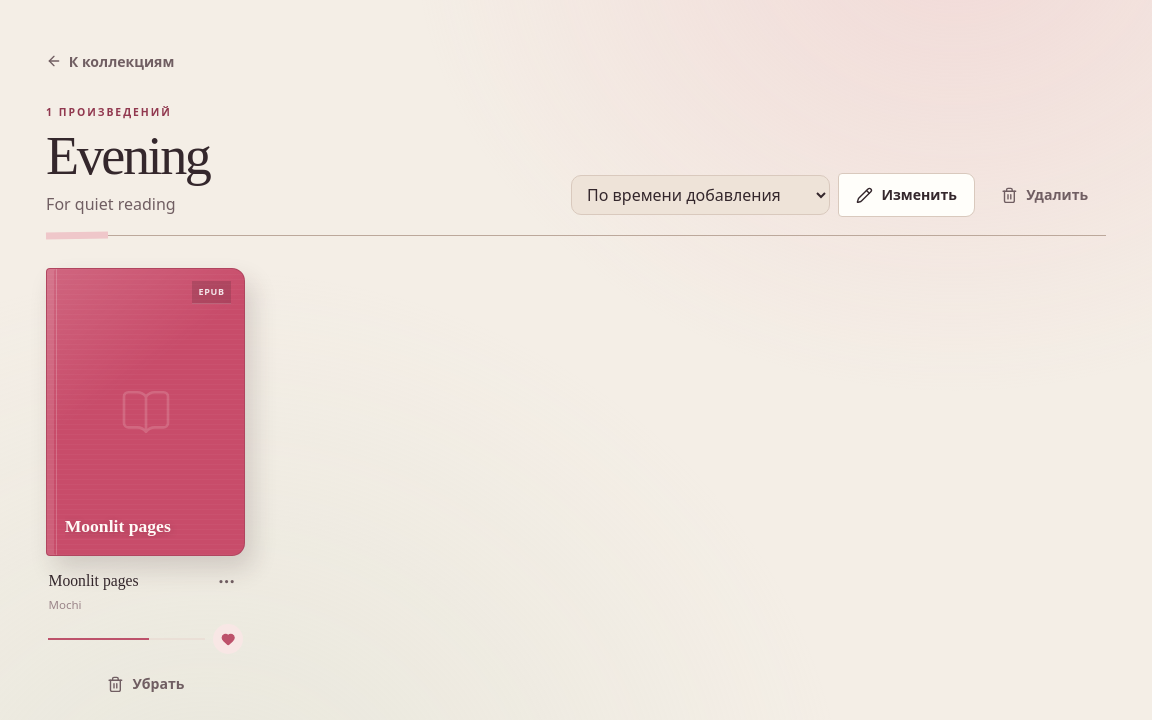
Test case: collection details page › reopens a collection as a real shelf and removes only its membership
The image size is (1152, 720).
Expected: the heading "Evening" is shown, [46,131,209,182]
Expected: the text "For quiet reading" is shown, [46,193,176,215]
Step 1. Click the button named "Убрать «Moonlit pages» из избранного" → (228, 639), box [213,624,243,654]
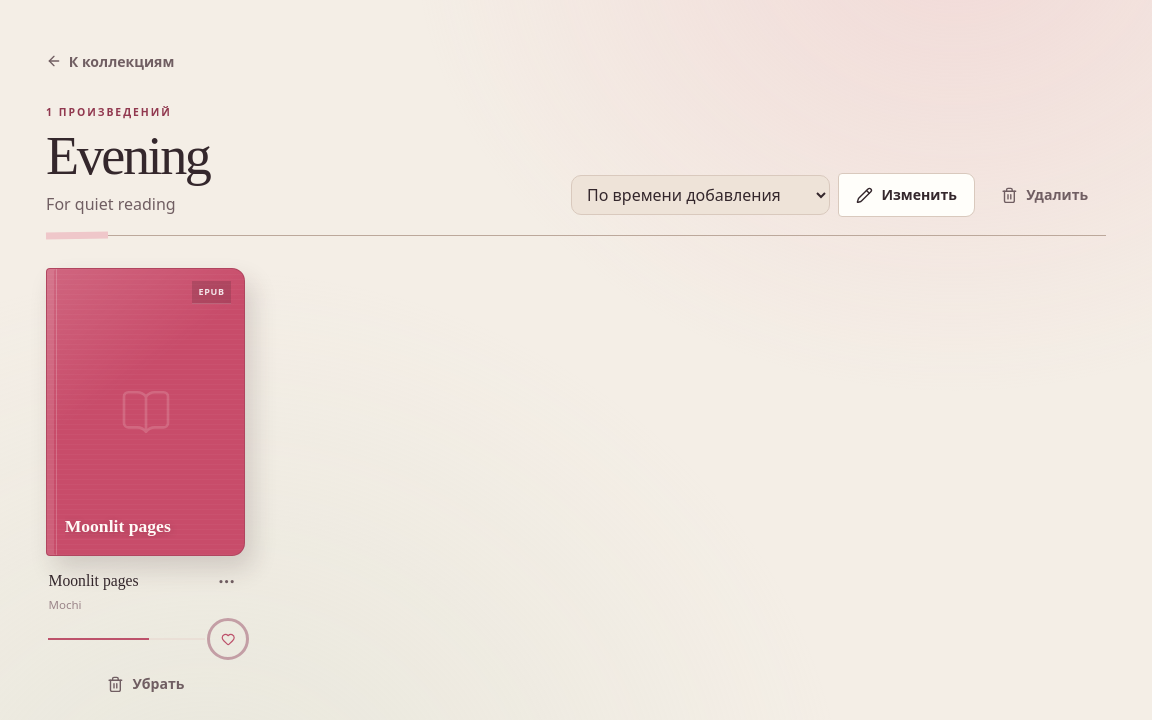
Step 2. Click the button with aria-label "Убрать «Moonlit pages» из коллекции" → (146, 684), box [46,662,245,706]
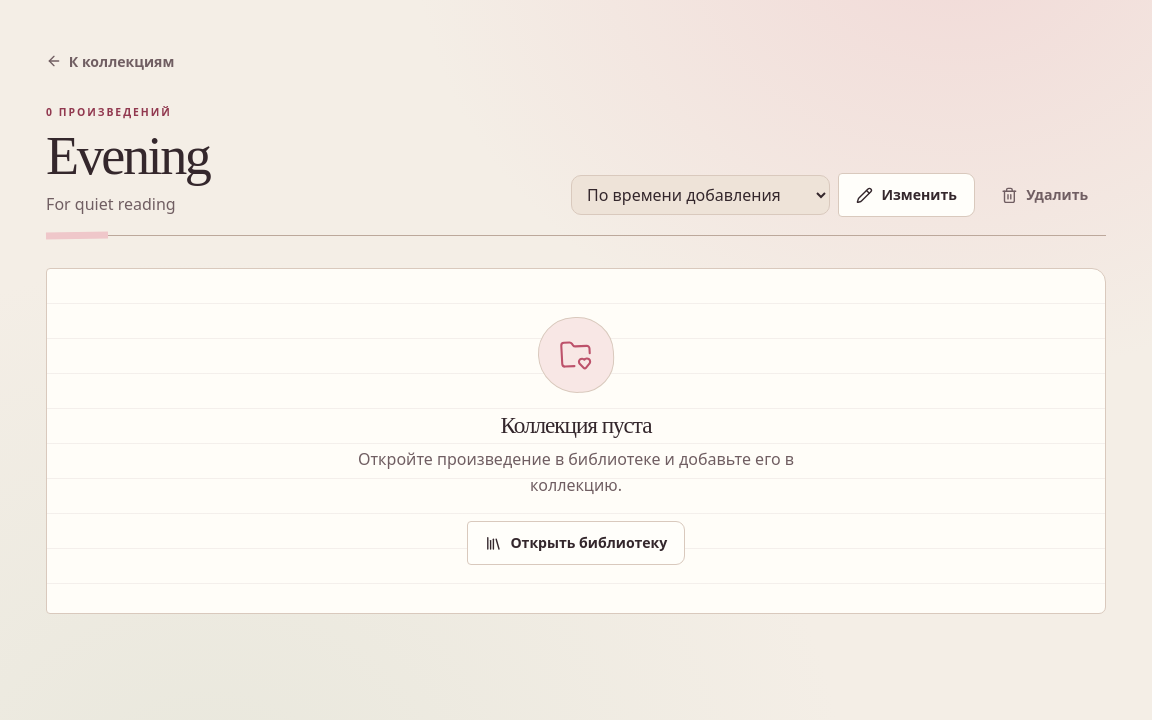
Now the link "Moonlit pages" is gone
